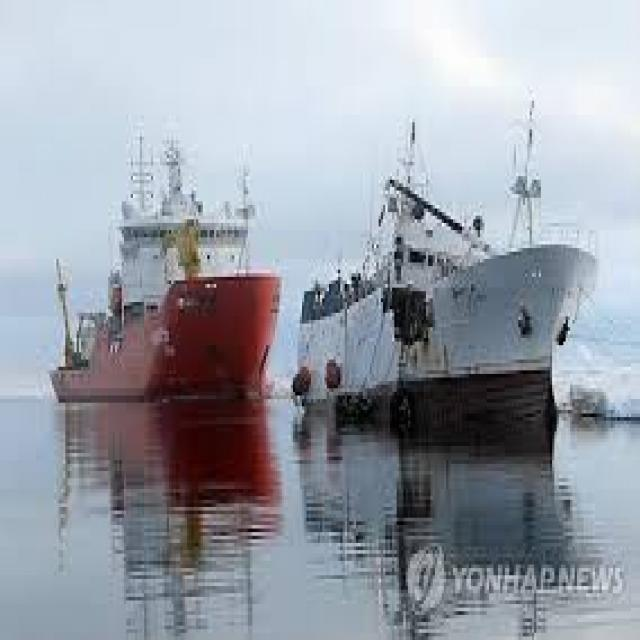Ship: (289, 87, 614, 458), (19, 106, 296, 415)
